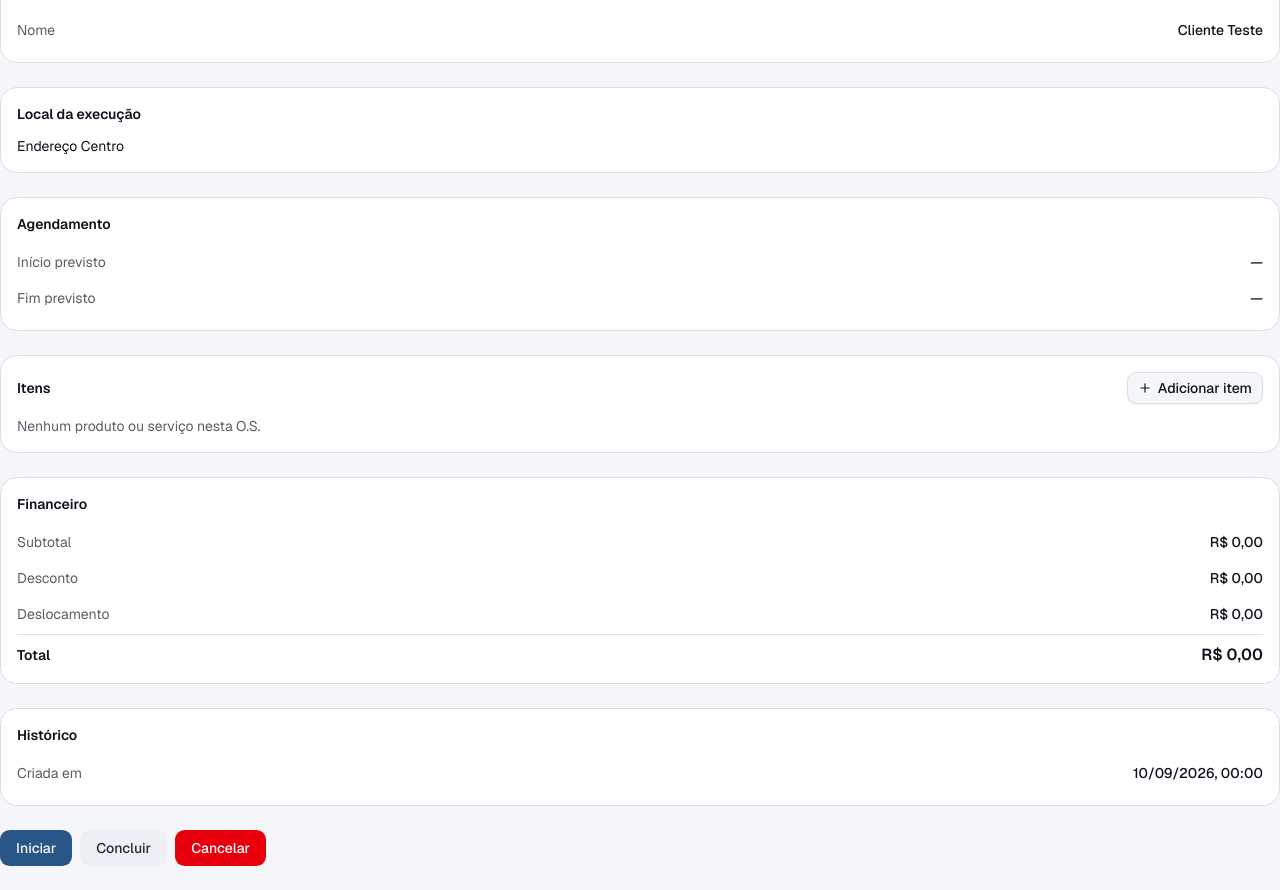
it: ServiceOrderDetail › D9: Cancelar requires a non-empty reason before submitting
This screenshot has width=1280, height=890.
(page scrolled)
Click the button "Cancelar" at (221, 848), box [175,830,266,866]
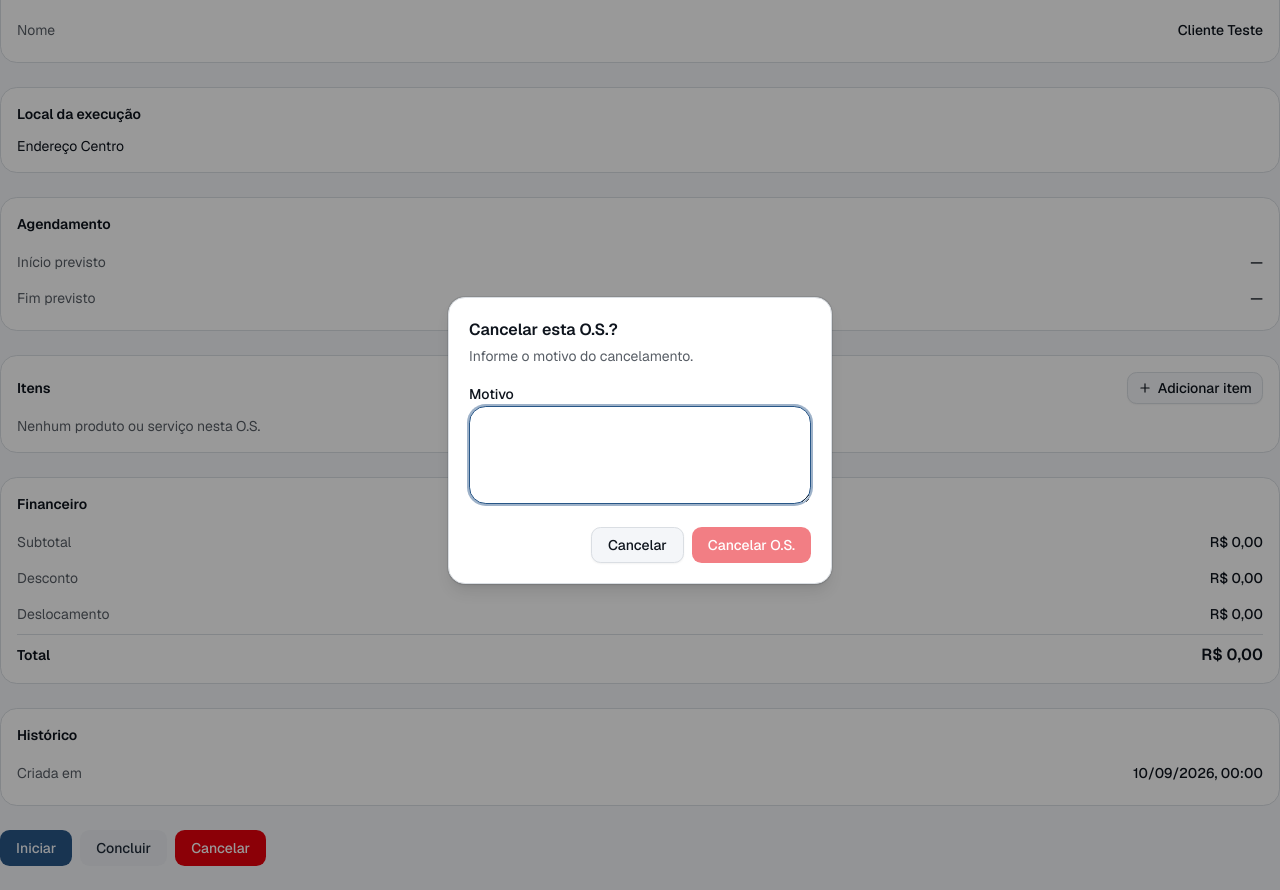
Result: the heading "Cancelar esta O.S.?" is shown at [469,318,618,340]
Result: the button "Cancelar O.S." is disabled at [692,526,811,562]
Type "Cliente desistiu" into the text box labelled "Motivo" at (640, 454), box [469,406,811,504]
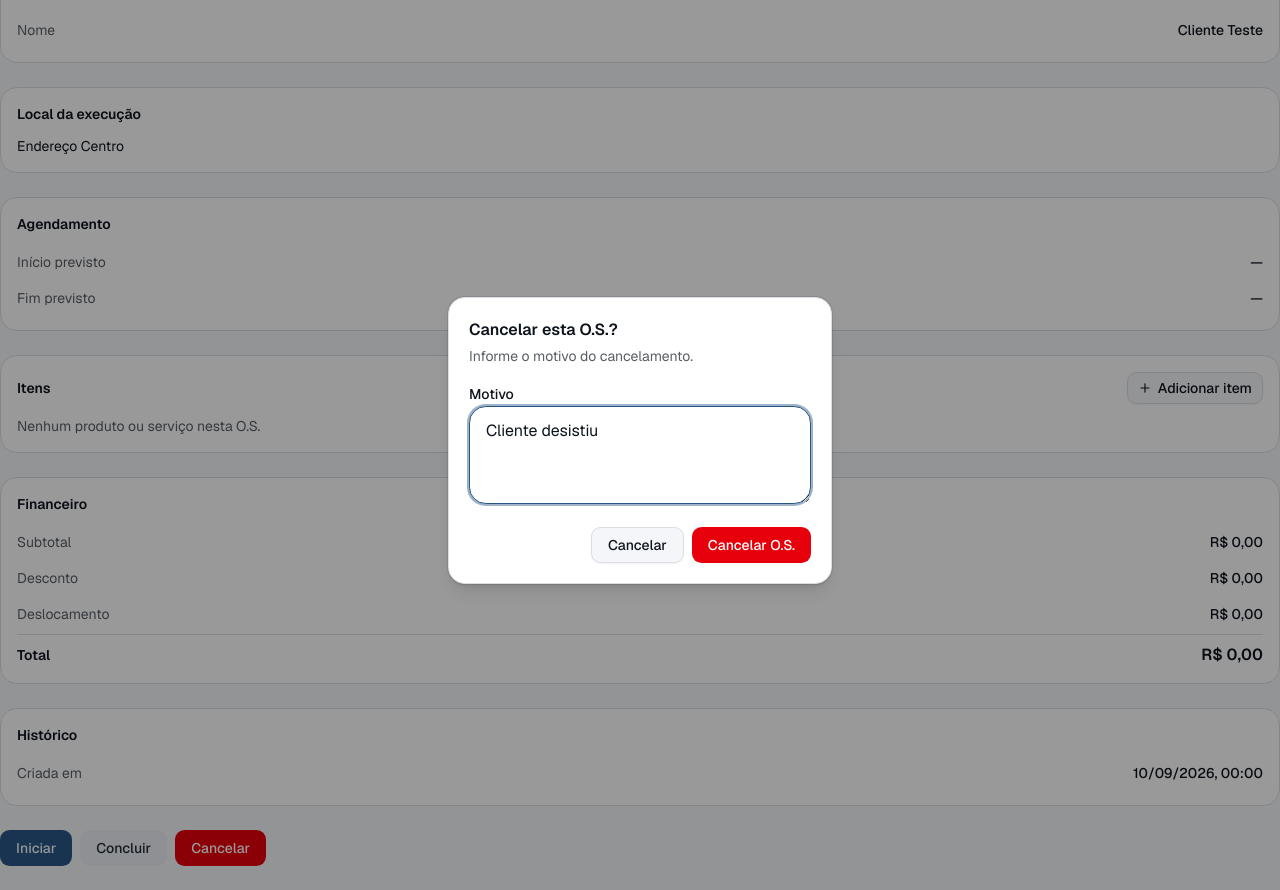
Result: the button "Cancelar O.S." is enabled at [692,526,811,562]
